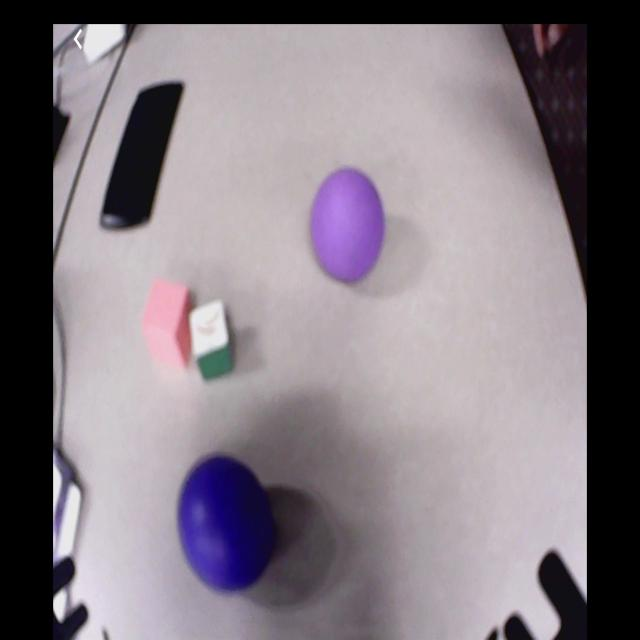ball: (180, 455, 272, 591), (311, 167, 384, 285)
